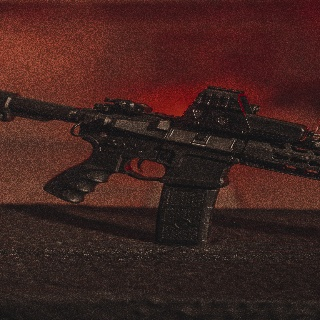rifle: (3, 82, 320, 244)
